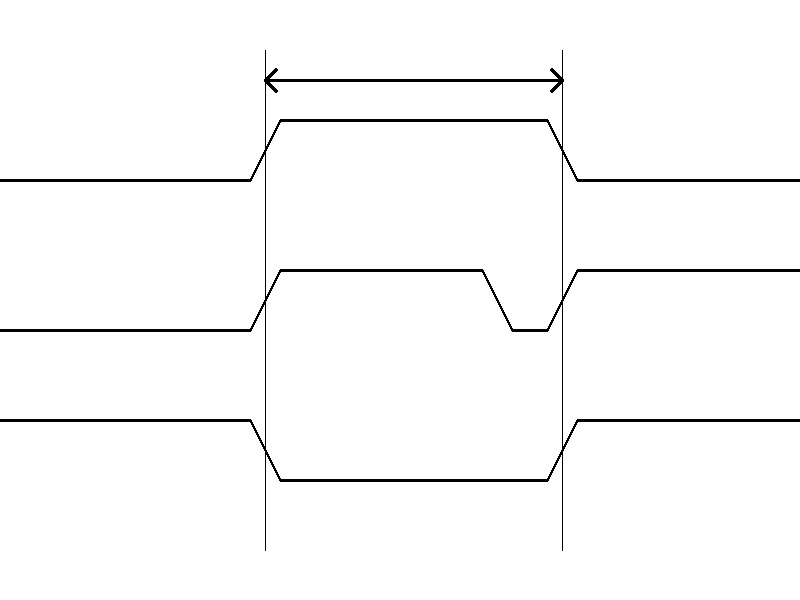double_arrow: (265, 65, 562, 95)
